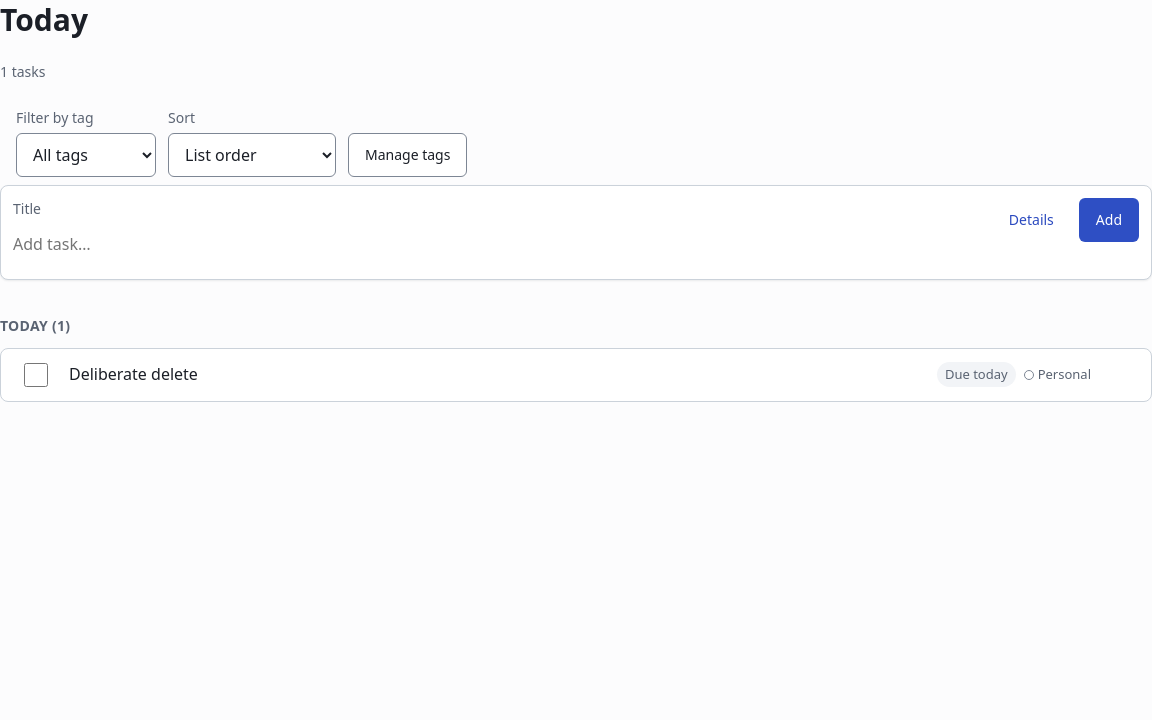
Test case: M1 editor (F2) — save, focus return, taskGone › a delete from the editor closes it without the taskGone state (S7.1: no confirm)
Click the button "Deliberate delete" at (133, 374), box [65,353,929,397]
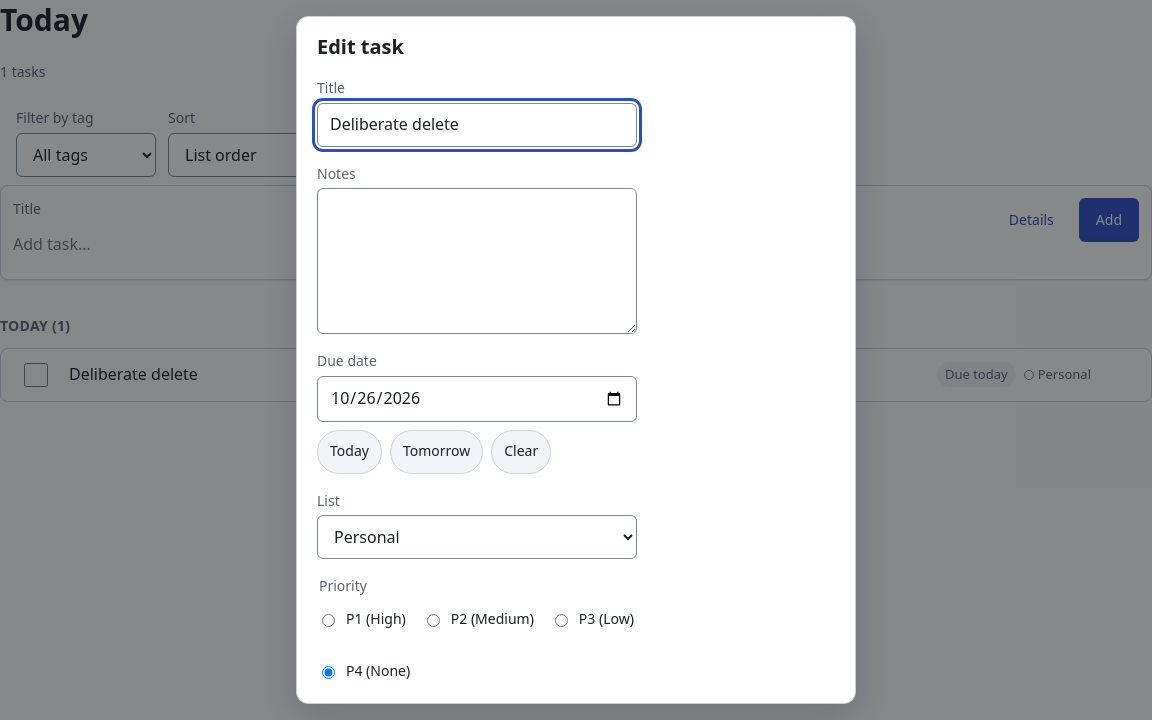
Replace the text in the field labelled "Title" with "Edited right before deleting" at (477, 125), box [317,103,637,147]
(page scrolled)
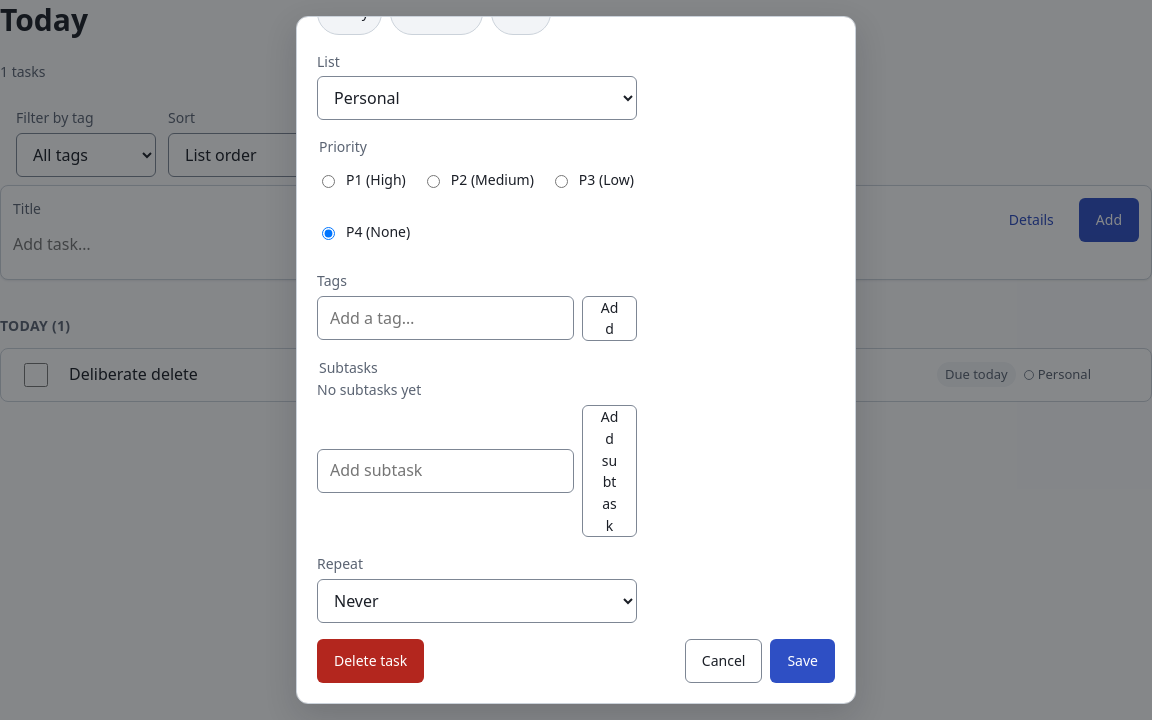
Click the button "Delete task" at (371, 661), box [317,639,424,683]
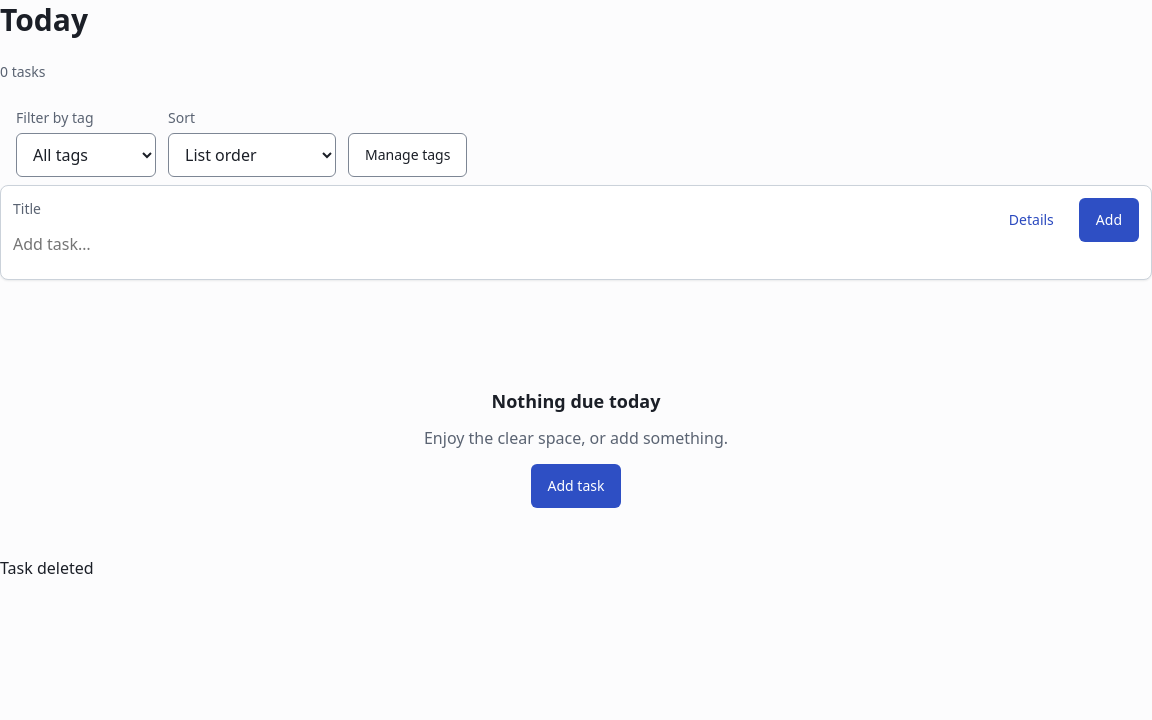
Check: the heading "Edit task" is not shown
Check: the button "Delete task?" is gone
Check: the text "Task deleted" is shown, box [0,557,94,579]
